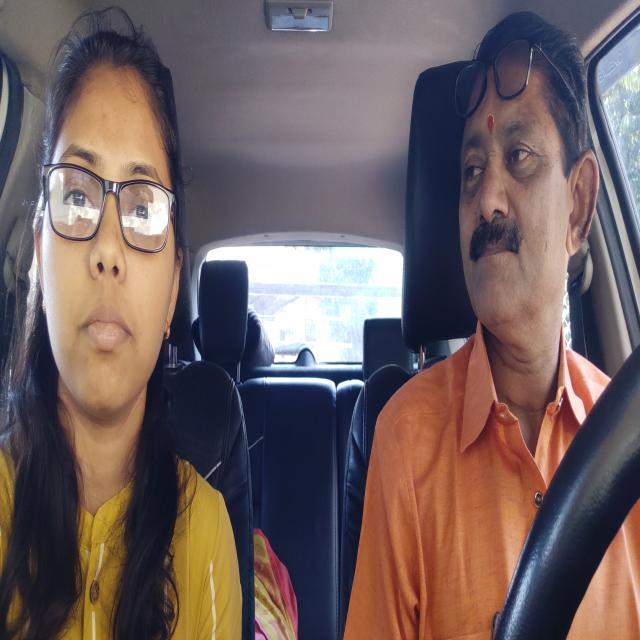LeftRight: (456, 38, 592, 310)
person: (50, 50, 177, 407)
